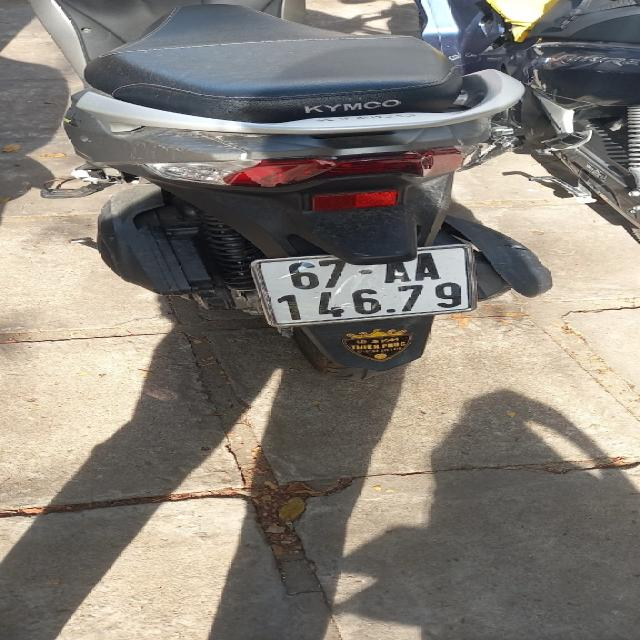1: (278, 294, 302, 320)
4: (318, 292, 346, 316)
6: (287, 262, 319, 289), (352, 288, 380, 315)
7: (320, 260, 346, 288), (399, 285, 423, 311)
9: (436, 282, 462, 308)
A: (415, 252, 441, 280), (384, 260, 412, 284)
